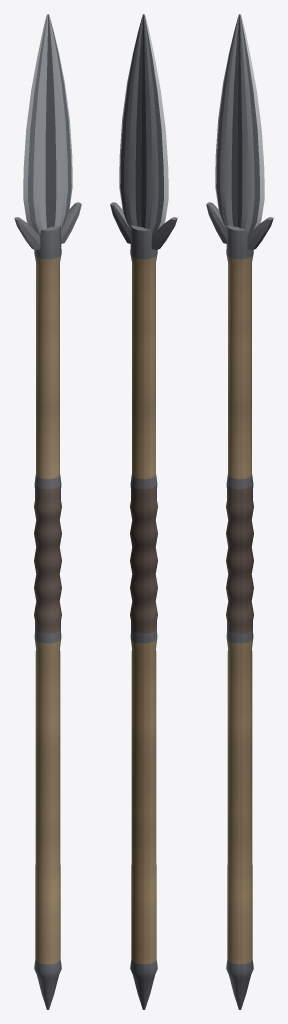
File: wardens-pike.glb
3 views of the same model, side by side, from view 1: azimuth 30°, elevation 25°; view 2: azimuth 150°, elevation 25°; view 3: azimuth 330°, elevation 25° (orthographic).
Visible parts, largest first — view 1: WPN_05_Spear_Wardens_Pike__HAFT.001, WPN_05_Spear_Wardens_Pike__HEAD.001; view 2: WPN_05_Spear_Wardens_Pike__HAFT.001, WPN_05_Spear_Wardens_Pike__HEAD.001; view 3: WPN_05_Spear_Wardens_Pike__HAFT.001, WPN_05_Spear_Wardens_Pike__HEAD.001.
Part boxes in pixels (bbox=[...]): WPN_05_Spear_Wardens_Pike__HAFT.001: bbox=[34, 225, 61, 1009]; WPN_05_Spear_Wardens_Pike__HEAD.001: bbox=[14, 14, 81, 249]; WPN_05_Spear_Wardens_Pike__HAFT.001: bbox=[130, 225, 157, 1009]; WPN_05_Spear_Wardens_Pike__HEAD.001: bbox=[110, 14, 177, 249]; WPN_05_Spear_Wardens_Pike__HAFT.001: bbox=[226, 225, 253, 1009]; WPN_05_Spear_Wardens_Pike__HEAD.001: bbox=[206, 14, 273, 249].
Bounding box in the file's own units: 0.437 × 6.32 × 0.1618.
1 material, 1 textured.
